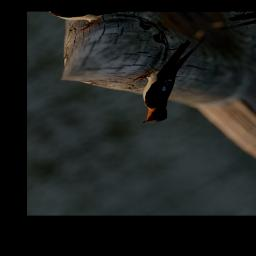Swallow: (100, 31, 250, 132)
